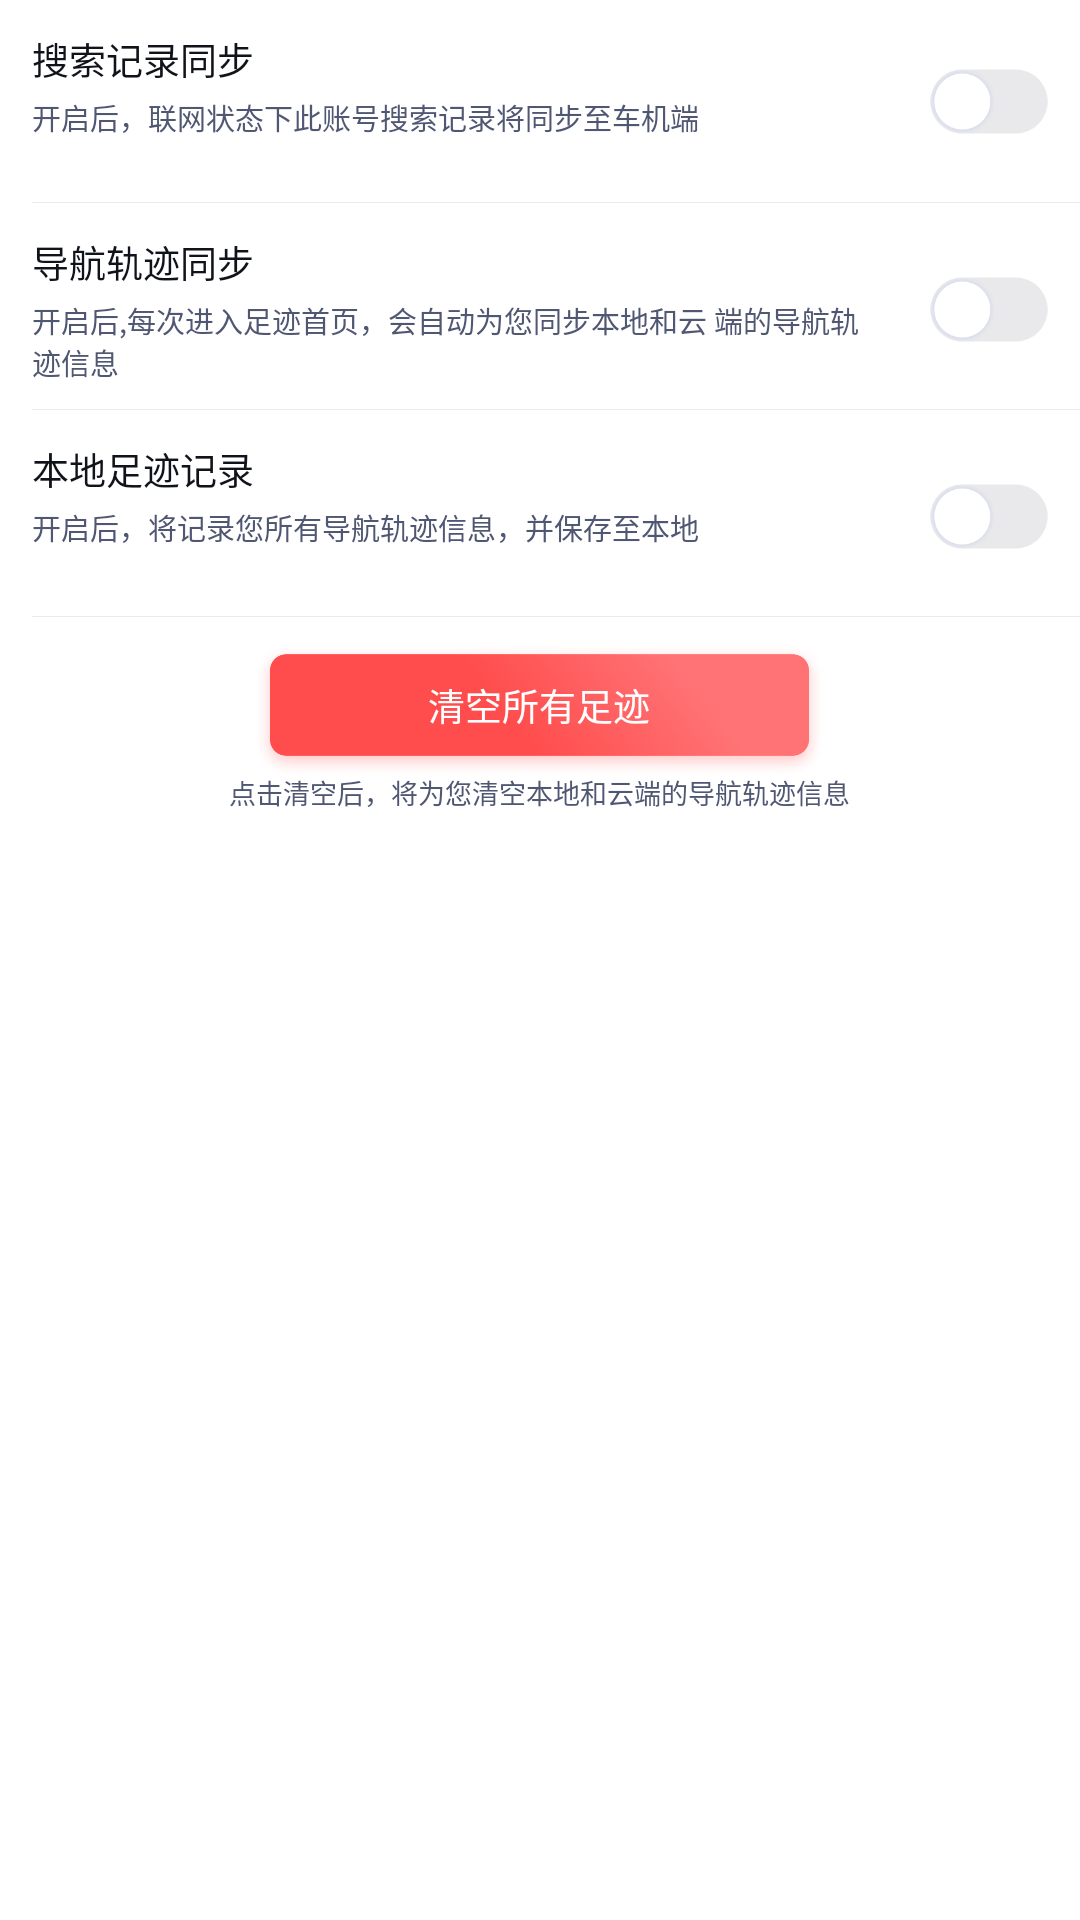

Named icons in this screenshot (1080 × 1920) and their centers, [x,y]:
switch close: [962,101], [962,309], [962,516]
